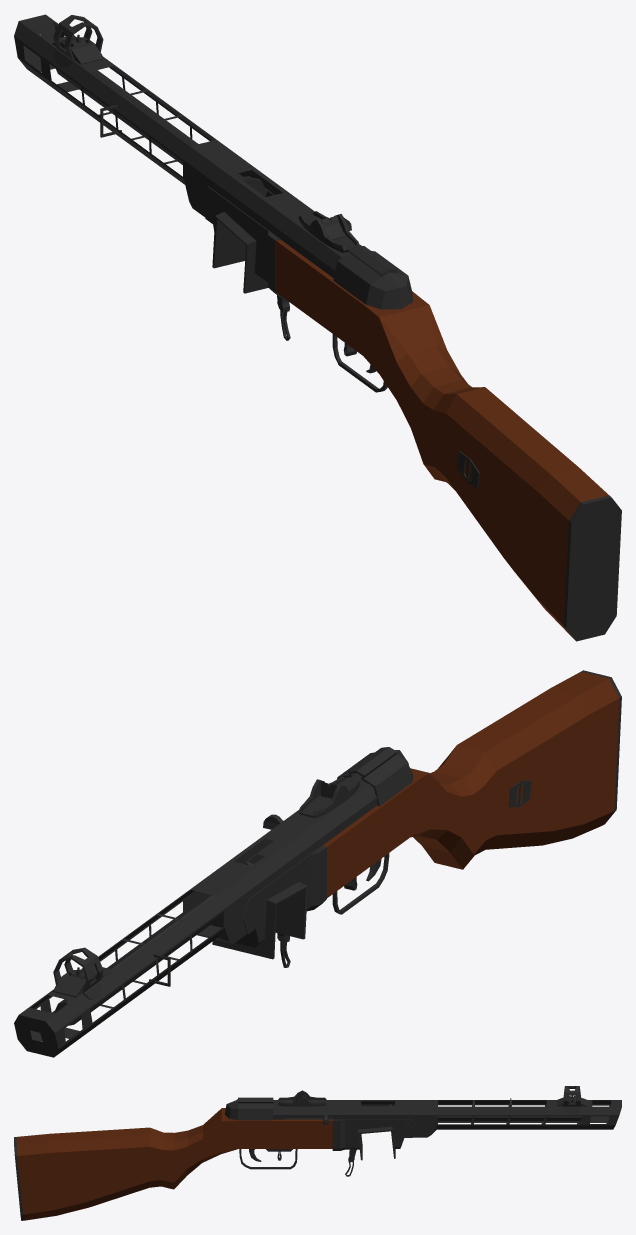
The model's file is gun.glb.
3 views of the same model, one above another, from view 1: azimuth 30°, elevation 25°; view 2: azimuth 150°, elevation 25°; view 3: azimuth 270°, elevation 25° (orthographic). The views are drawn at different scales.
Parts seen in each view (by area): view 1: ppsh-41-gun; view 2: ppsh-41-gun; view 3: ppsh-41-gun.
Part boxes in pixels (x1,y1,x2,y2): ppsh-41-gun: [14, 14, 621, 641]; ppsh-41-gun: [14, 670, 621, 1057]; ppsh-41-gun: [14, 1086, 621, 1220].
Bounding box in the file's own units: 0.065 × 0.1971 × 0.8303.
